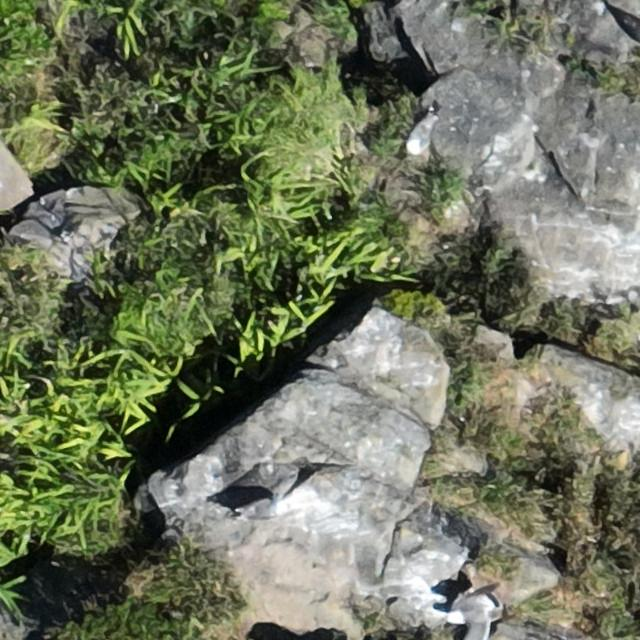F: (448, 580, 502, 636)
umineko: (407, 120, 430, 153), (615, 12, 640, 42)
